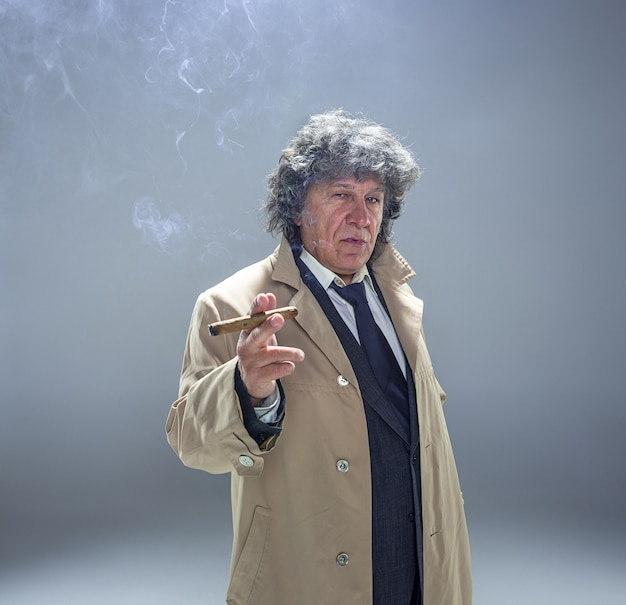cigarette: (207, 303, 299, 338)
